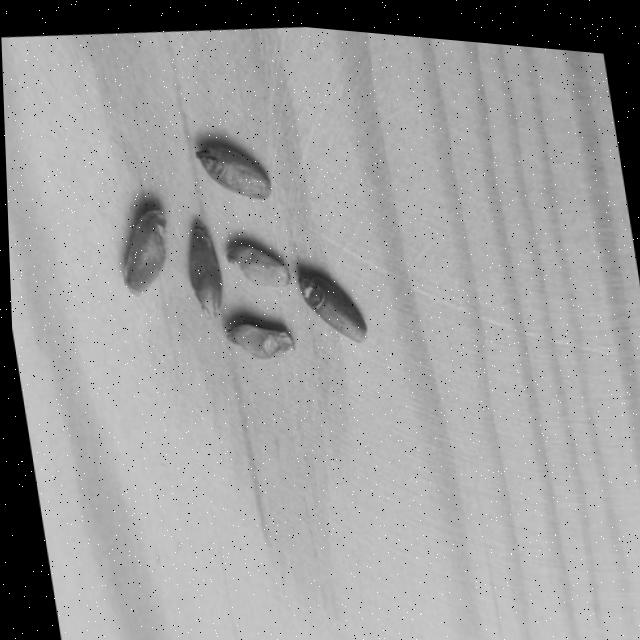wheat_grain: (193, 135, 275, 201), (299, 267, 367, 344), (123, 198, 167, 292), (187, 216, 223, 317), (226, 235, 288, 286), (226, 311, 293, 348)
